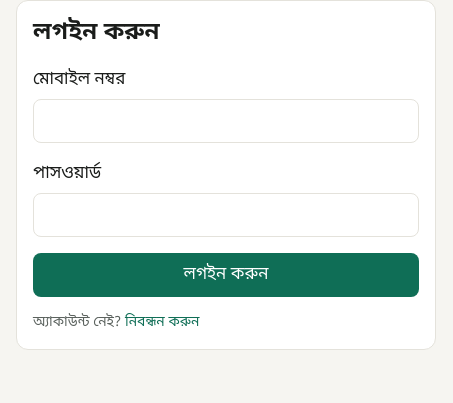
Test: Login › reports a 401 as its own cause
The image size is (453, 403).
Type "01810000001" into the field labelled "মোবাইল নম্বর".
click(226, 121); type("01810000001")  # box [33,99,419,143]
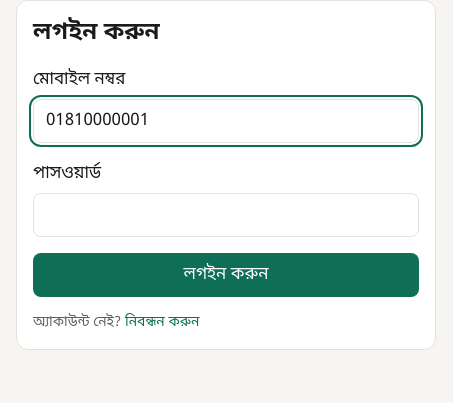
Type "wrong-password" into the password field labelled "পাসওয়ার্ড".
click(226, 215); type("wrong-password")  # box [33,193,419,237]
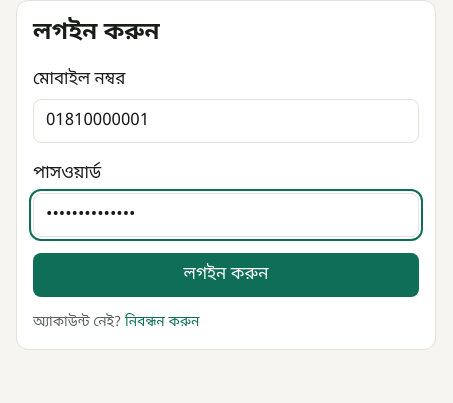
Click the button "লগইন করুন".
click(226, 275)  # box [33,253,419,297]
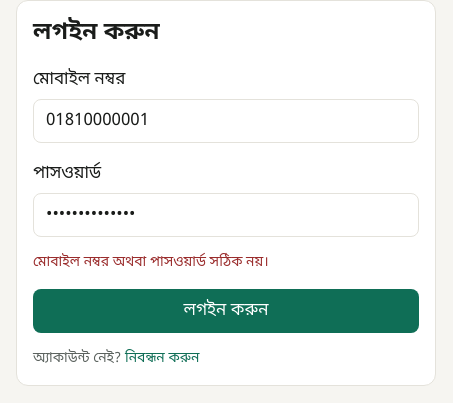
Now the text "মোবাইল নম্বর অথবা পাসওয়ার্ড সঠিক নয়।" is shown, box [33,253,269,272]
